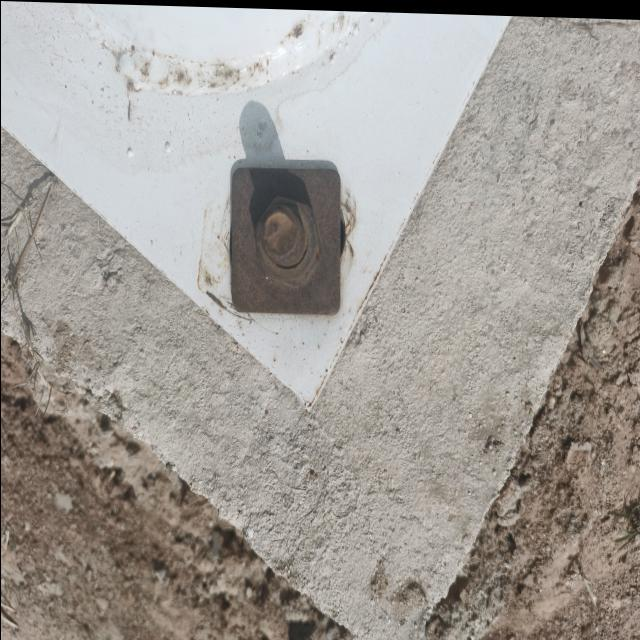Rusty bolt: (256, 194, 322, 286)
